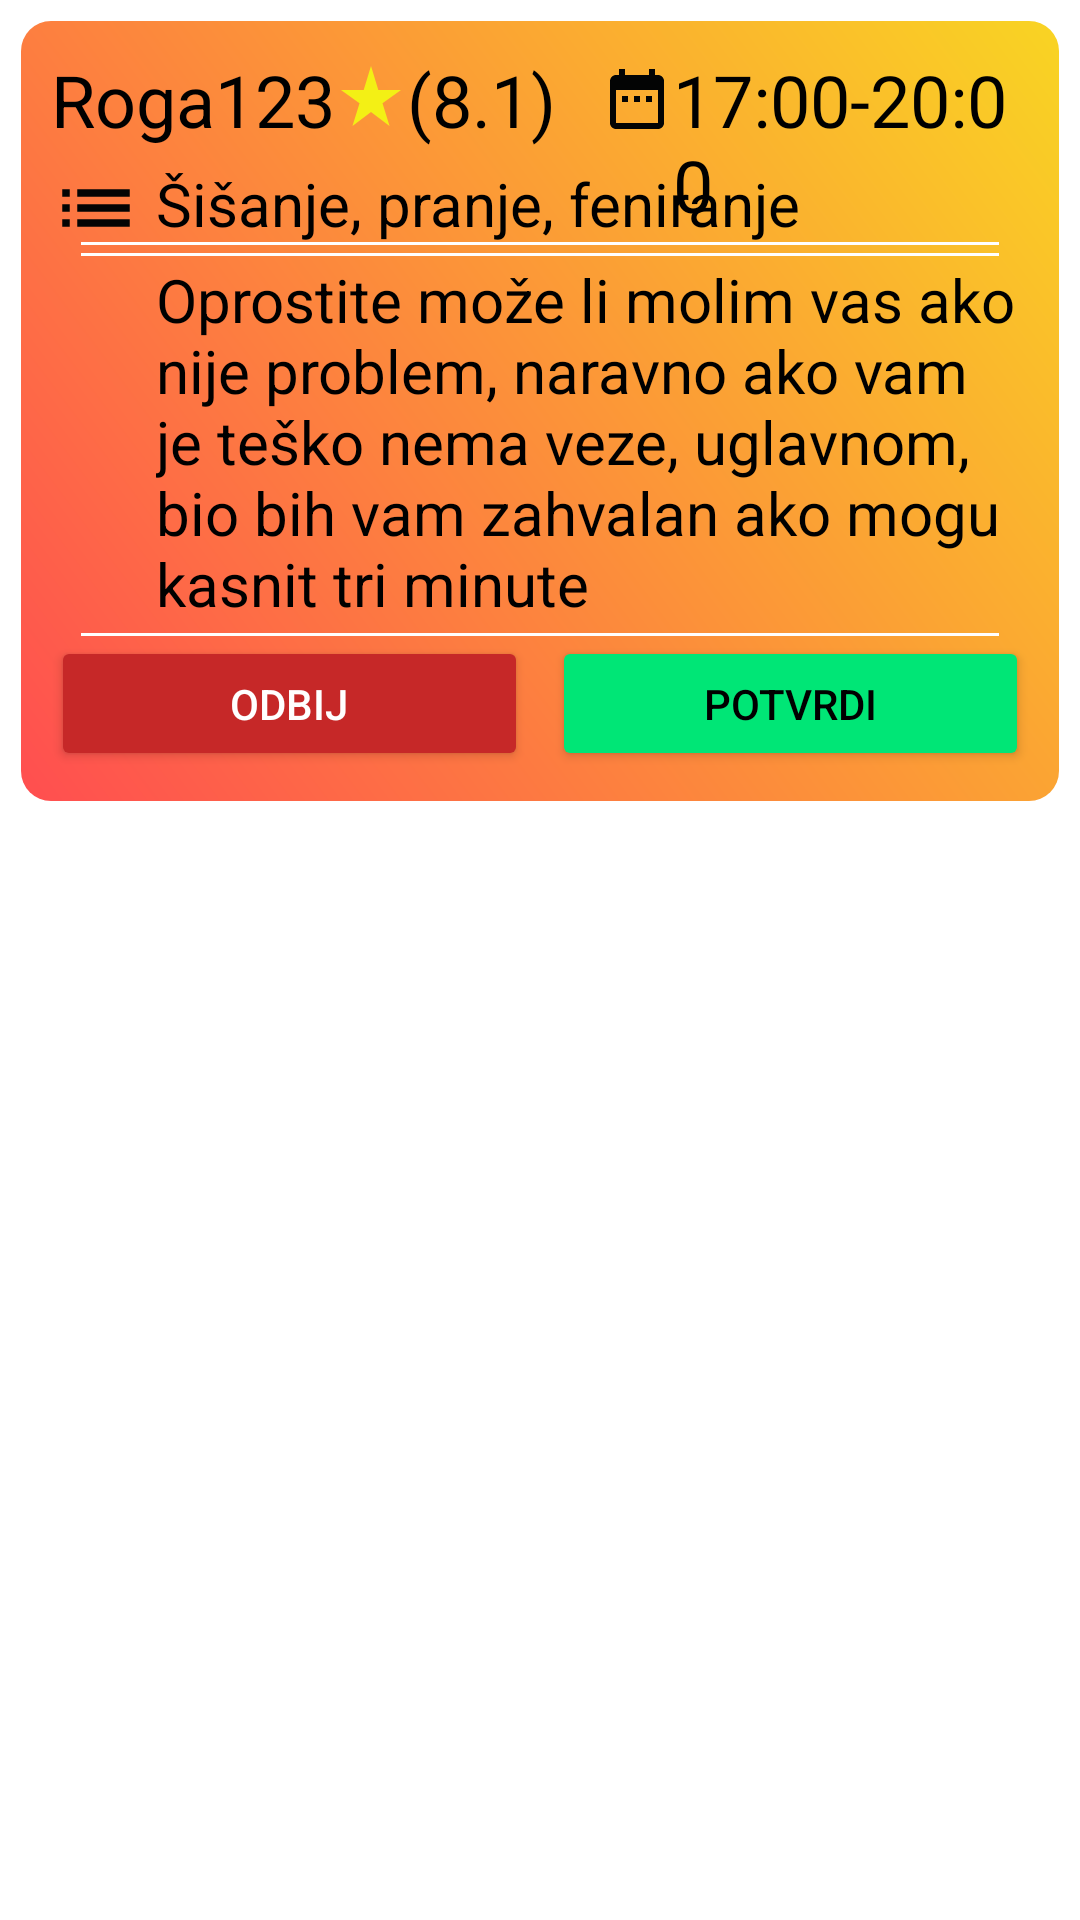

Locate icon controls on the screen. Image size 1080x1920, boxes as (x1, y1, x2, y2).
date range: (610, 69, 664, 129)
list: (62, 189, 130, 227)
star rate: (341, 67, 401, 126)
